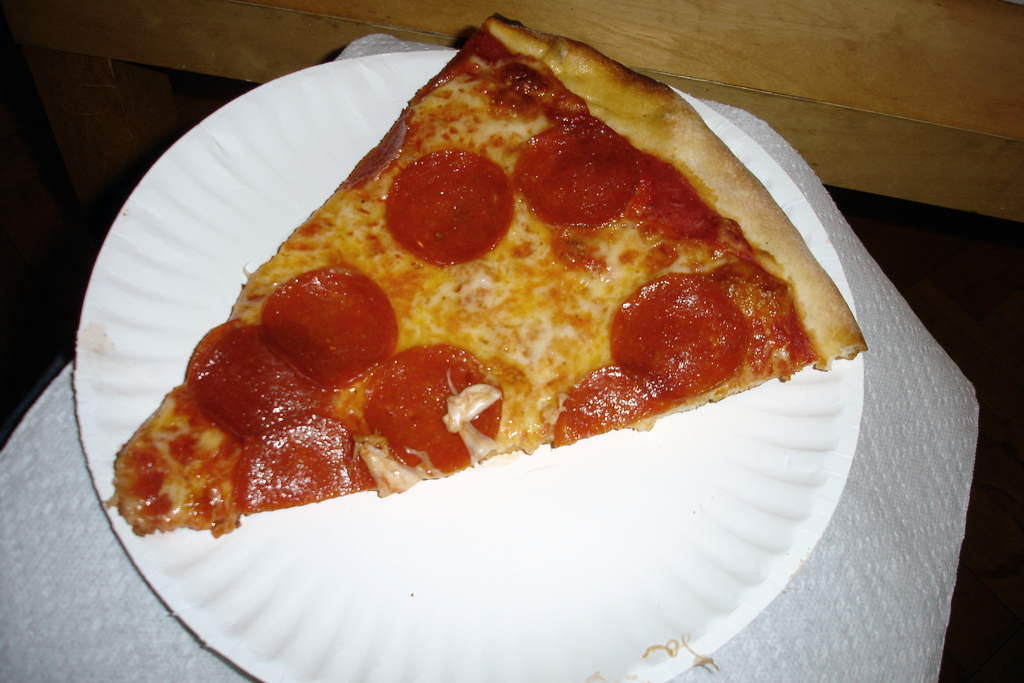Pizza: (108, 4, 866, 532)
